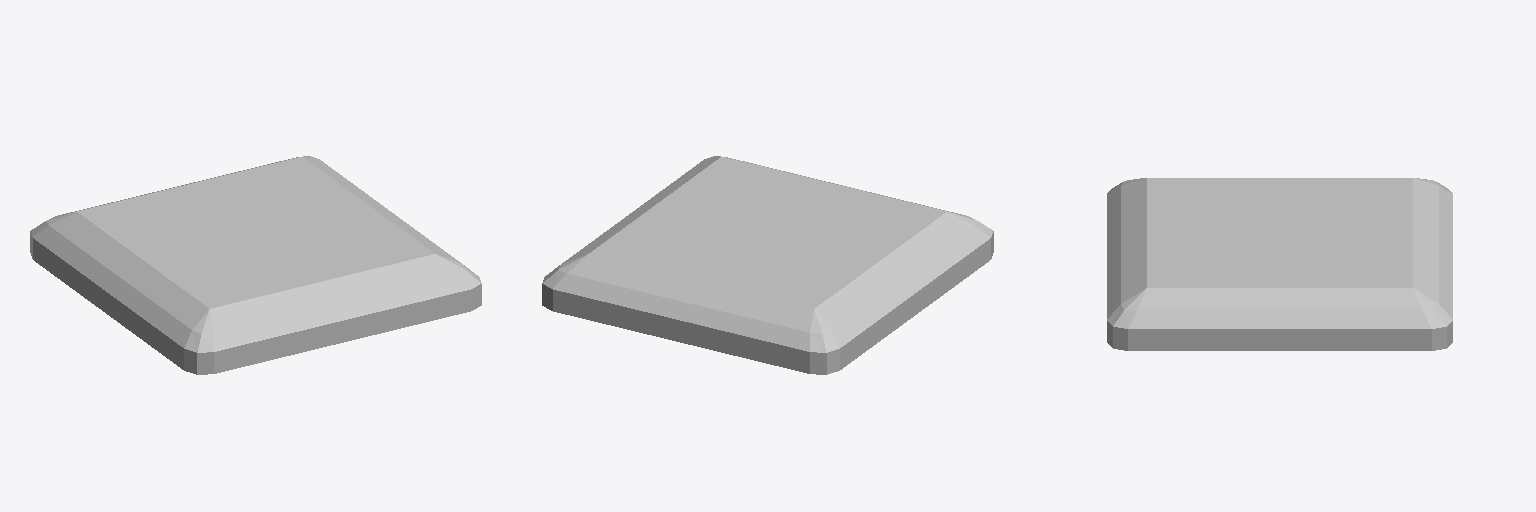
Rendered from Chair_Polster.obj.
The picture shows the model from 3 angles: view 1: azimuth 30°, elevation 25°; view 2: azimuth 150°, elevation 25°; view 3: azimuth 270°, elevation 25°; orthographic projection.
Parts seen in each view (by area): view 1: Chair_Polster.001_ChairDining.008; view 2: Chair_Polster.001_ChairDining.008; view 3: Chair_Polster.001_ChairDining.008.
Part boxes in pixels (left/top/right/bottom): Chair_Polster.001_ChairDining.008: left=30, top=156, right=481, bottom=374; Chair_Polster.001_ChairDining.008: left=542, top=156, right=993, bottom=374; Chair_Polster.001_ChairDining.008: left=1107, top=178, right=1452, bottom=350.
Bounding box in the file's own units: 0.4255 × 0.0642 × 0.4331.